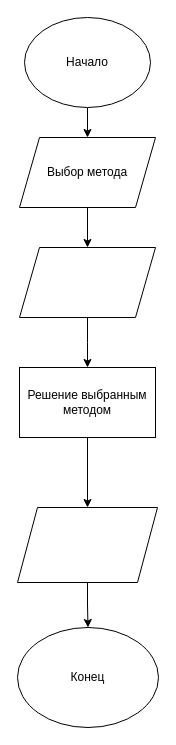
The diagram is 176 pixels wide and 745 high, and some of its shapes have lost their labels. Each missing label, with the box of its shape:
Ввод переменны a,b,n: (18, 246, 156, 318)
Вывод результата решения на экран: (16, 506, 158, 582)
